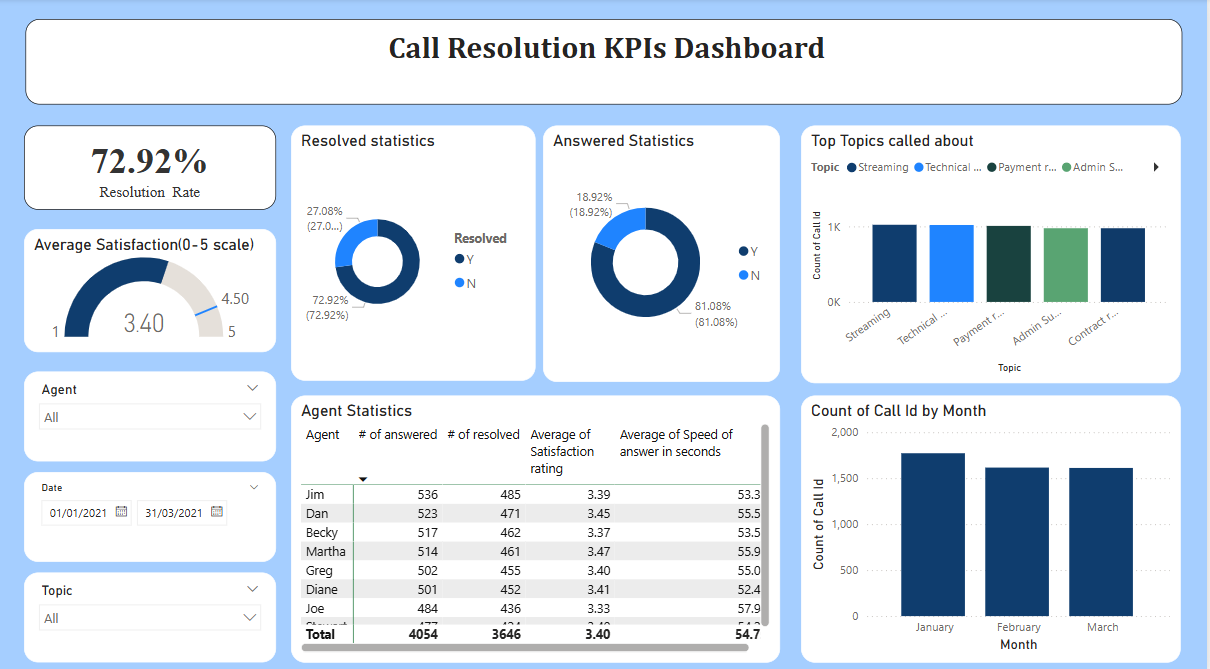

What the dashboard file says about the page in this screenshot:
{"tool":"powerbi","page":{"name":"Page 1","canvas":[1280,720],"ordinal":0},"visuals":[{"type":"gauge","title":"Average Satisfaction(0-5 scale)","fields":{"Y":["Call Data.Average_Satisfaction"],"MaxValue":["Call Data.Satisfaction rating"],"TargetValue":["Call Data.Target Value Satisfaction"],"MinValue":["Sum(Call Data.Satisfaction rating)1"]},"box":[25.4,245,267.2,130.4],"z":0},{"type":"columnChart","title":"Top Topics called about","fields":{"Category":["Call Data.Topic"],"Y":["Call Data.Call Id"],"Series":["Call Data.Topic"]},"box":[849.4,135.2,402.4,273.6],"z":1000},{"type":"textbox","box":[27,30.2,1226.4,82.7],"z":2000},{"type":"columnChart","fields":{"Category":["Call Data.Date.Variation.Date Hierarchy.Month"],"Y":["Call Data.Call Id"]},"box":[849.4,421.5,402.4,283.1],"z":3000},{"type":"slicer","fields":{"Values":["Call Data.Agent"]},"box":[25.4,396.1,267.2,95.4],"z":4000},{"type":"slicer","fields":{"Values":["Call Data.Date"]},"box":[25.4,502.6,267.2,95.4],"z":5000},{"type":"slicer","fields":{"Values":["Call Data.Topic"]},"box":[25.4,609.2,267.2,95.4],"z":6000},{"type":"donutChart","title":"Resolved statistics ","fields":{"Category":["Call Data.Resolved"],"Y":["Call Data.Resolved"]},"box":[308.6,135.2,259.3,270.4],"z":7000},{"type":"donutChart","title":"Answered Statistics","fields":{"Category":["Call Data.Answered (Y/N)"],"Y":["Call Data.Answered (Y/N)"]},"box":[575.8,135.2,251.3,272],"z":8000},{"type":"pivotTable","title":"Agent Statistics","fields":{"Rows":["Call Data.Agent"],"Values":["Call Data.# of answered","Call Data.# of resolved","Call Data.Satisfaction rating","Call Data.Speed of answer in seconds"]},"box":[308.6,421.5,518.5,283.1],"z":9000},{"type":"card","fields":{"Values":["Call Data.Resolution_Rate"]},"box":[25.4,135.2,267.2,89.1],"z":10000}]}

Visuals, with their boxes in screenshot pixels (x1, y1, x2, y2), scaled from the page's 1280x720 canvas onto the 1210x669 screenshot:
"Average Satisfaction(0-5 scale)" gauge: box(24, 228, 277, 349)
"Top Topics called about" columnChart: box(803, 126, 1183, 380)
textbox: box(26, 28, 1185, 105)
columnChart - Call Data.Date.Variation.Date Hierarchy.Month x Call Data.Call Id: box(803, 392, 1183, 655)
slicer - Call Data.Agent: box(24, 368, 277, 457)
slicer - Call Data.Date: box(24, 467, 277, 556)
slicer - Call Data.Topic: box(24, 566, 277, 655)
"Resolved statistics " donutChart: box(292, 126, 537, 377)
"Answered Statistics" donutChart: box(544, 126, 782, 378)
"Agent Statistics" pivotTable: box(292, 392, 782, 655)
card - Call Data.Resolution_Rate: box(24, 126, 277, 208)
